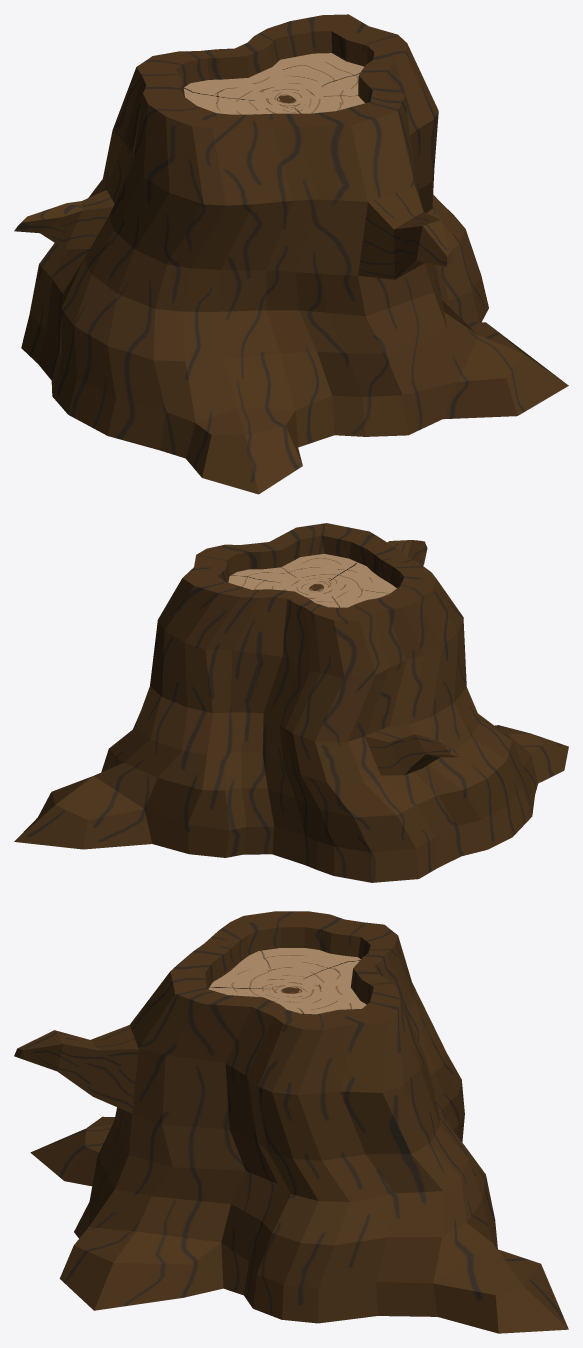
File: low-poly_tree_stump.glb
The picture shows the model from 3 angles, top to bottom: view 1: azimuth 30°, elevation 25°; view 2: azimuth 150°, elevation 25°; view 3: azimuth 270°, elevation 25°; orthographic projection. The views are drawn at different scales.
Visible parts, largest first — view 1: polySurface1; view 2: polySurface1; view 3: polySurface1.
Boxes of the visible parts, x1,y1,x2,y2 form: polySurface1: [14, 14, 568, 494]; polySurface1: [14, 523, 568, 882]; polySurface1: [14, 911, 568, 1333].
Bounding box in the file's own units: 0.1954 × 0.1124 × 0.219.
1 material, 1 textured.
